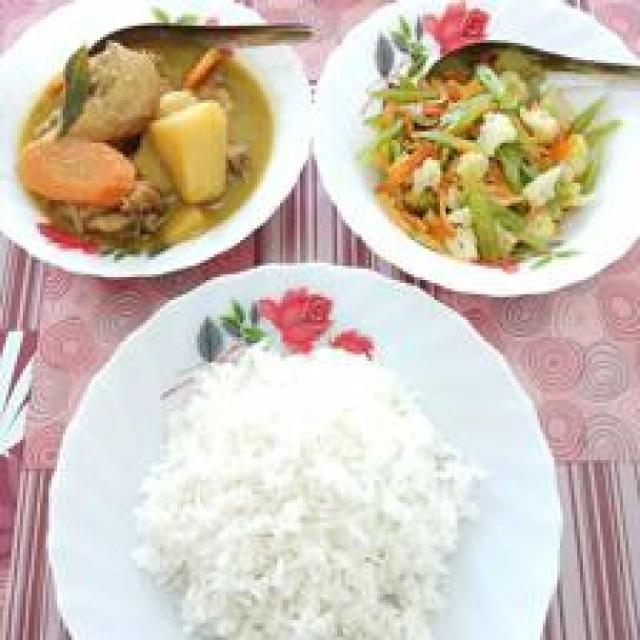Wet Waste: (134, 340, 480, 640)
